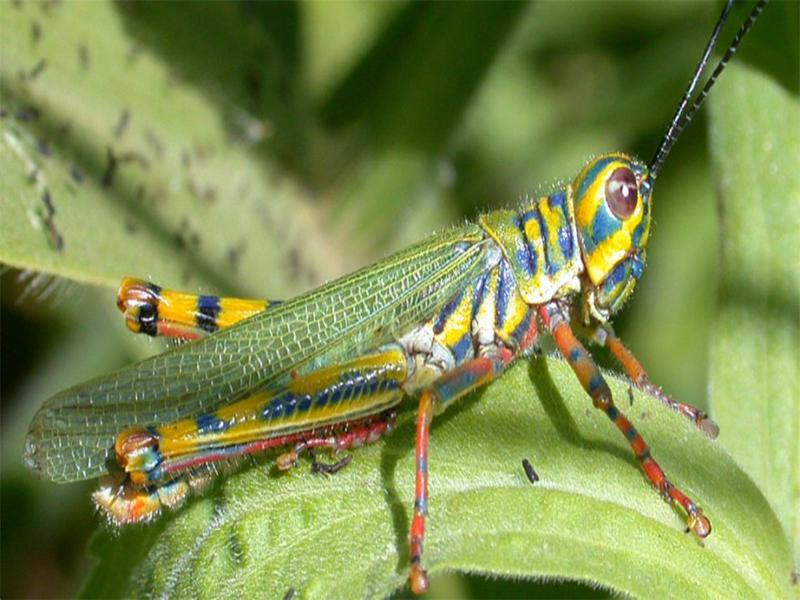Grasshopper: (12, 148, 744, 550)
